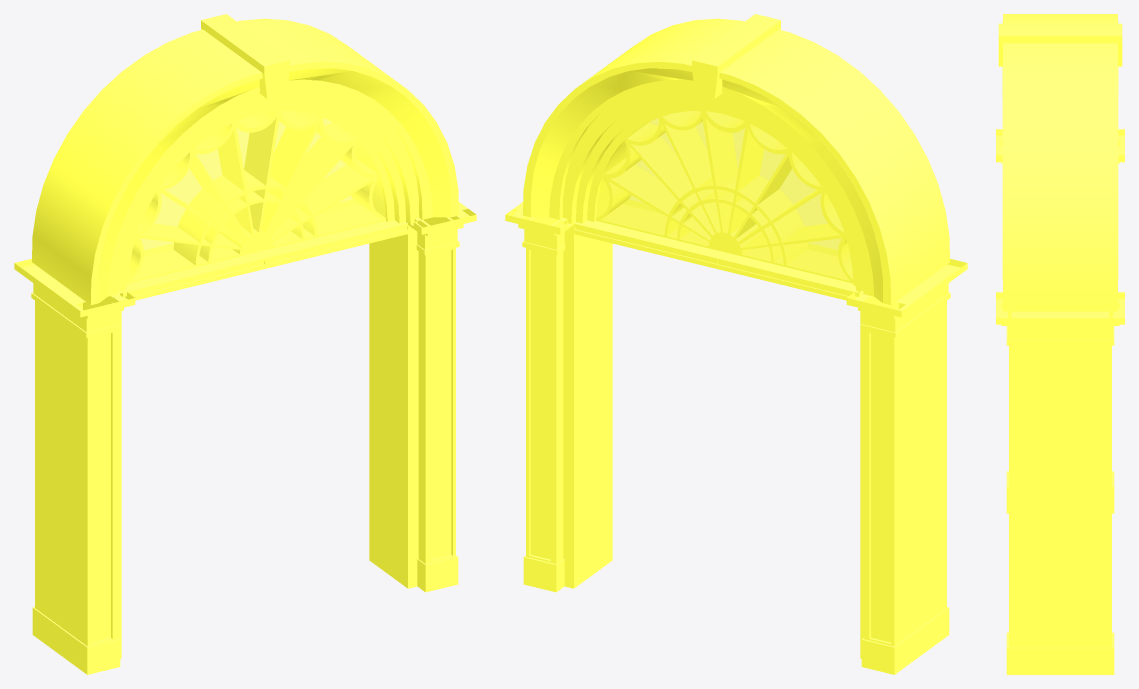
Rendered from arch_yellow.dae.
3 views of the same model, side by side, from view 1: azimuth 30°, elevation 25°; view 2: azimuth 150°, elevation 25°; view 3: azimuth 270°, elevation 25° (orthographic). The views are drawn at different scales.
Parts seen in each view (by area): view 1: Component#1_003, Component#1_001, Component#1_007, Component#1_005; view 2: Component#1_007, Component#1_005, Component#1_003, Component#1_001; view 3: Component#1_001, Component#1_005, Component#1_003, Component#1_007.
Part boxes in pixels (x1,y1,x2,y2): Component#1_003: (28,29,277,674); Component#1_001: (237,41,476,592); Component#1_007: (14,17,256,668); Component#1_005: (214,14,462,588); Component#1_007: (704,29,953,674); Component#1_005: (505,31,744,592); Component#1_003: (725,17,967,668); Component#1_001: (519,14,767,588); Component#1_001: (996,29,1098,674); Component#1_005: (1030,29,1124,674); Component#1_003: (996,14,1075,513); Component#1_007: (1068,14,1124,513).
Size of the model in its own units: 101 by 139 by 29.25.
